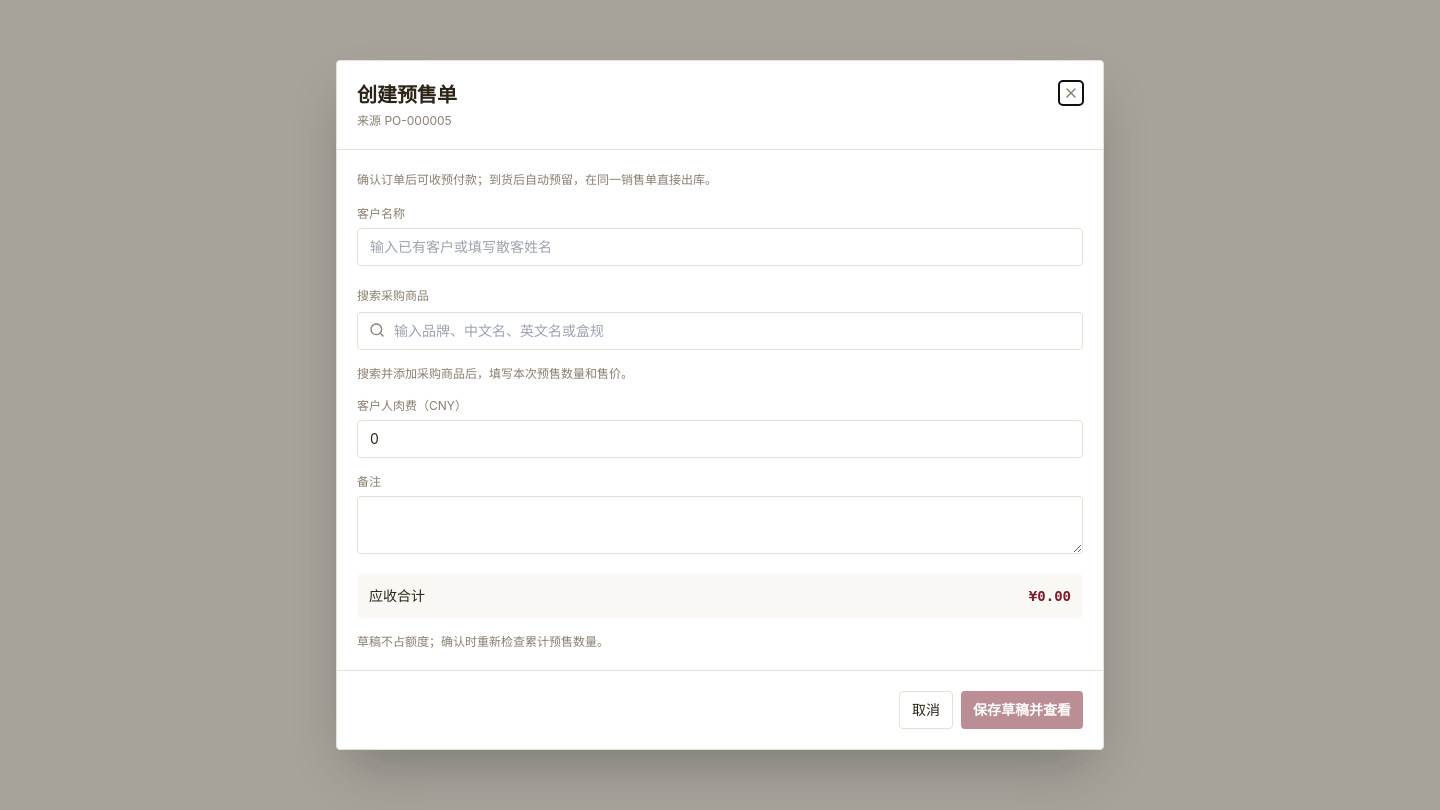
没有剩余额度的商品不能选择保存
Focus the dropdown at (720, 331), box [357,312,1083,350]
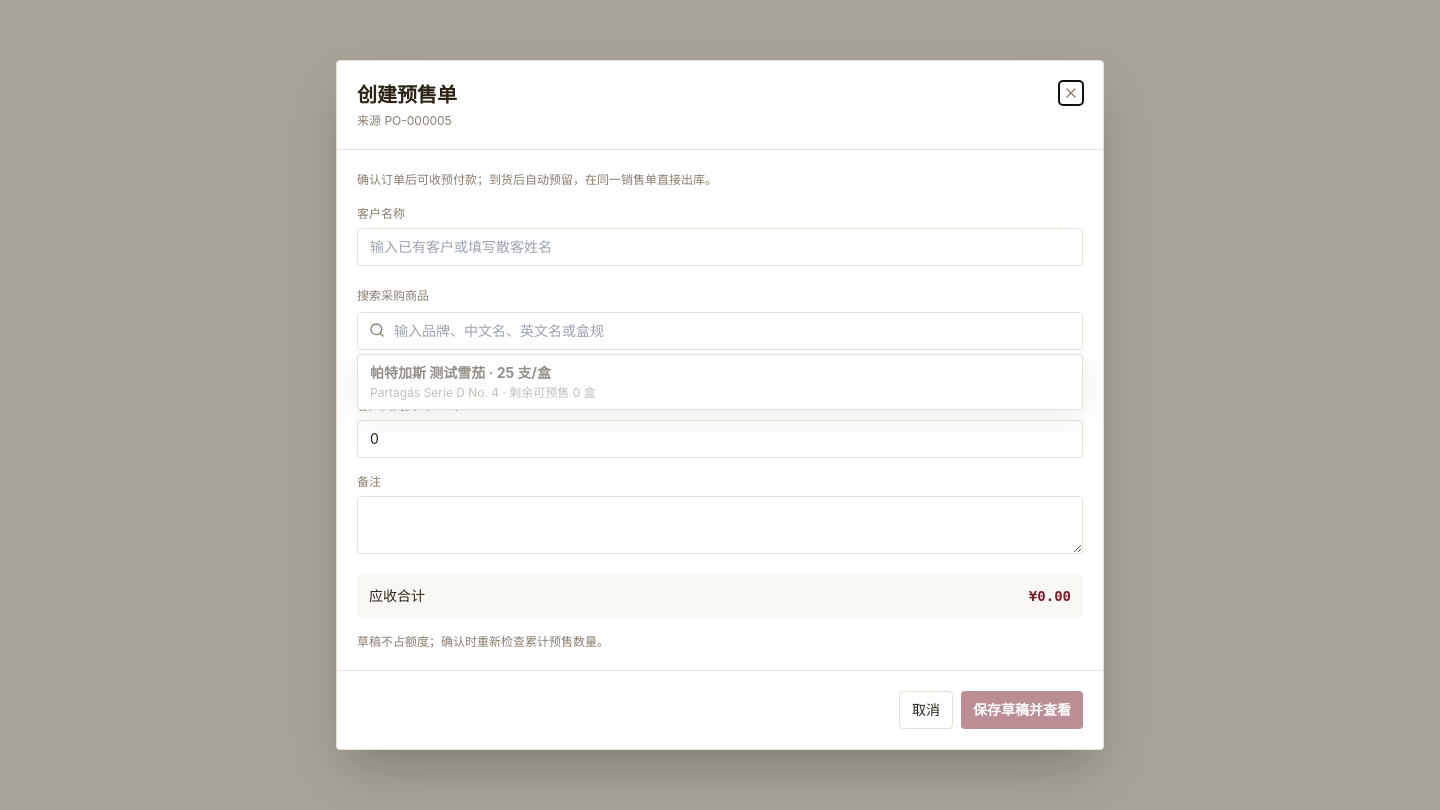
Expected: the button "保存草稿并查看" is disabled, [961,691,1083,729]
Result: the option "帕特加斯 测试雪茄 · 25 支/盒 Partagás Serie D No. 4 · 剩余可预售 0 盒" is disabled at [358,355,1082,409]
